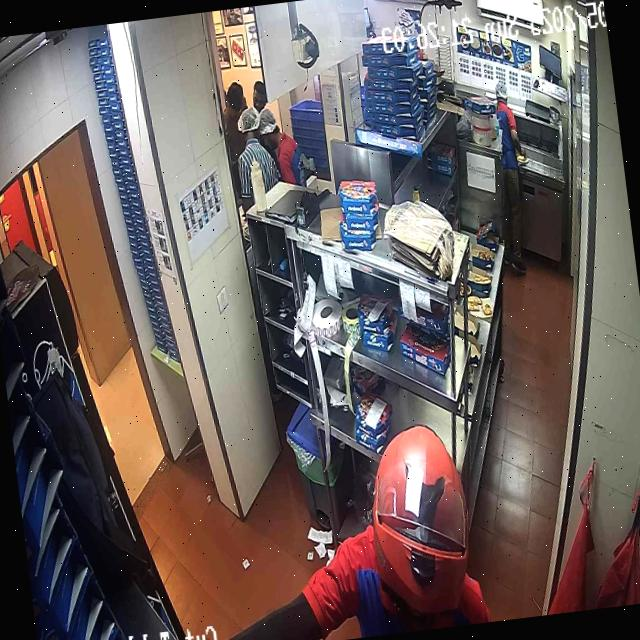helmet: (372, 423, 471, 624)
no_helmet: (259, 108, 280, 150), (237, 105, 260, 142), (495, 82, 507, 103)
